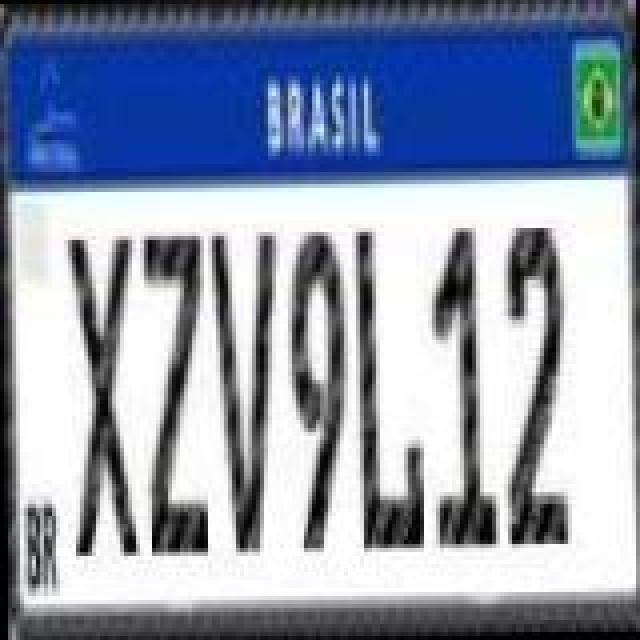1: (428, 226, 500, 550)
2: (502, 216, 570, 552)
9: (284, 222, 348, 558)
L: (354, 226, 422, 550)
V: (212, 230, 284, 554)
X: (66, 228, 134, 564)
Z: (138, 232, 206, 556)
